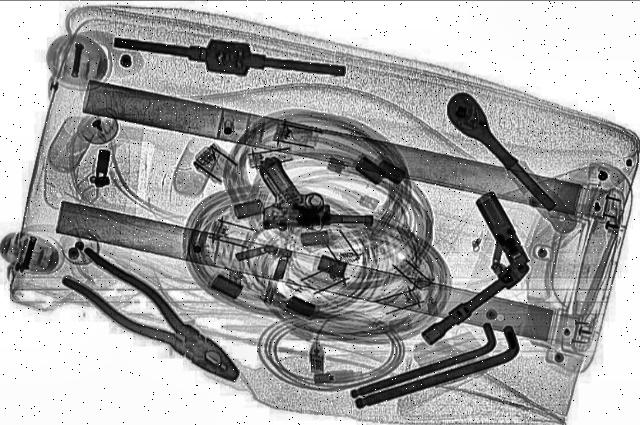Gun: (258, 155, 379, 230)
Pliers: (45, 243, 267, 391)
